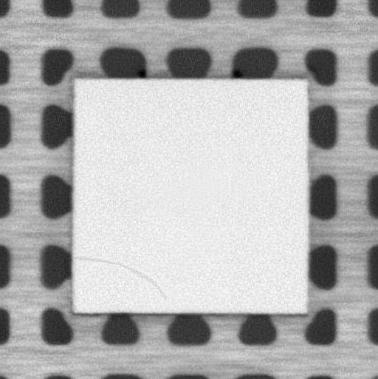DIE_CRACK: (78, 256, 167, 300)
